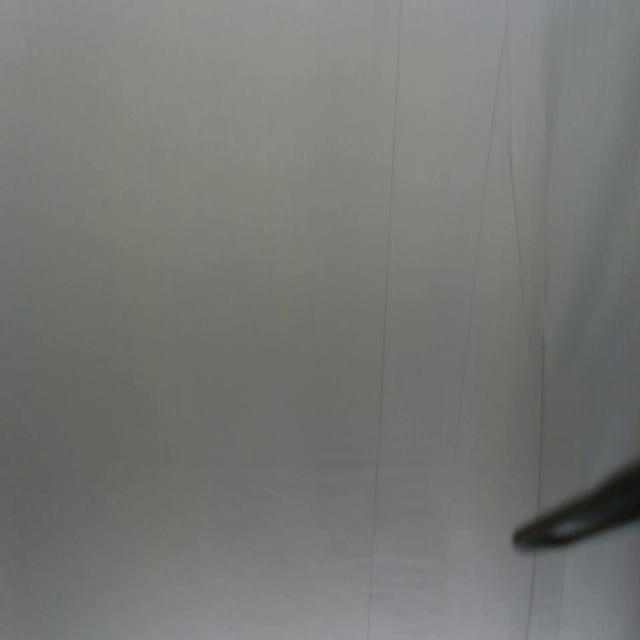crease: (366, 0, 404, 640), (506, 121, 531, 334), (536, 324, 546, 514), (526, 553, 537, 640)
